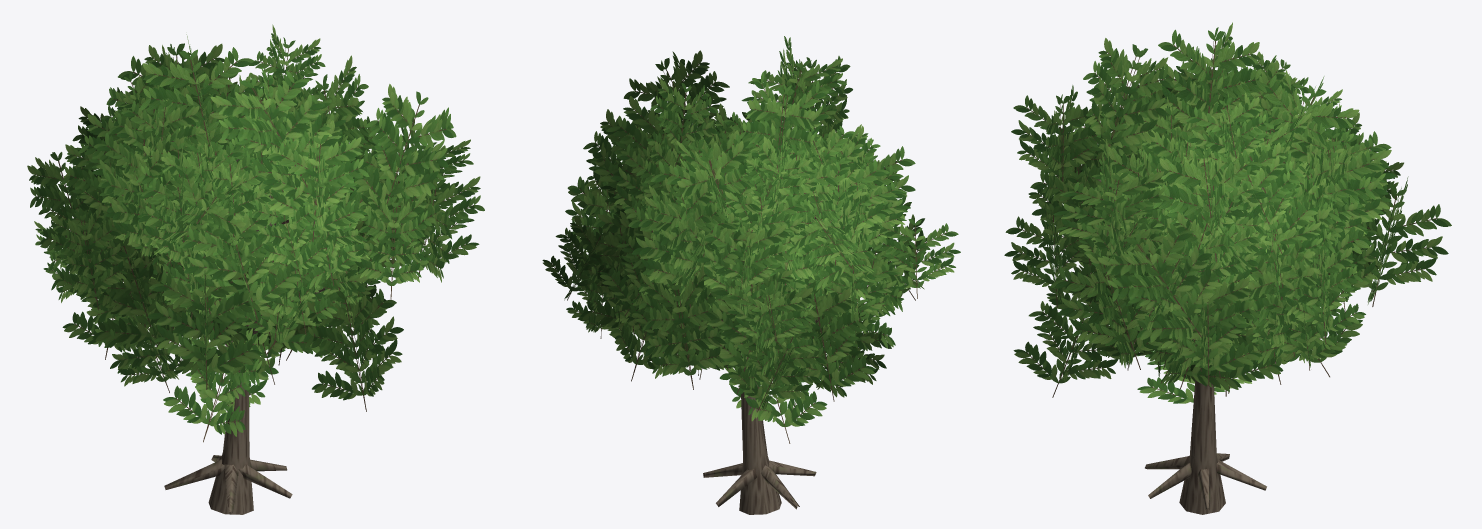
The model's file is tree_b.glb.
3 views of the same model, side by side, from view 1: azimuth 30°, elevation 25°; view 2: azimuth 150°, elevation 25°; view 3: azimuth 270°, elevation 25° (orthographic). The views are drawn at different scales.
Visible parts, largest first — view 1: TreeB_leaves, TreeB_trunk; view 2: TreeB_leaves, TreeB_trunk; view 3: TreeB_leaves, TreeB_trunk.
Boxes of the visible parts, x1=… form: TreeB_leaves: x1=27, y1=24, x2=484, y2=442; TreeB_trunk: x1=122, y1=159, x2=401, y2=514; TreeB_leaves: x1=542, y1=36, x2=960, y2=443; TreeB_trunk: x1=703, y1=198, x2=831, y2=514; TreeB_leaves: x1=1004, y1=22, x2=1451, y2=403; TreeB_trunk: x1=1097, y1=129, x2=1293, y2=514.
Bounding box in the file's own units: 6.29 × 6.8 × 6.08.
2 materials, 2 textured.
